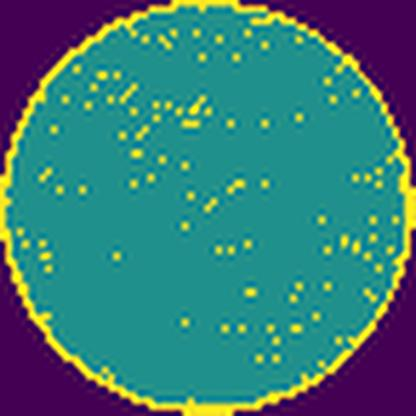Donut: (0, 0, 415, 416)
